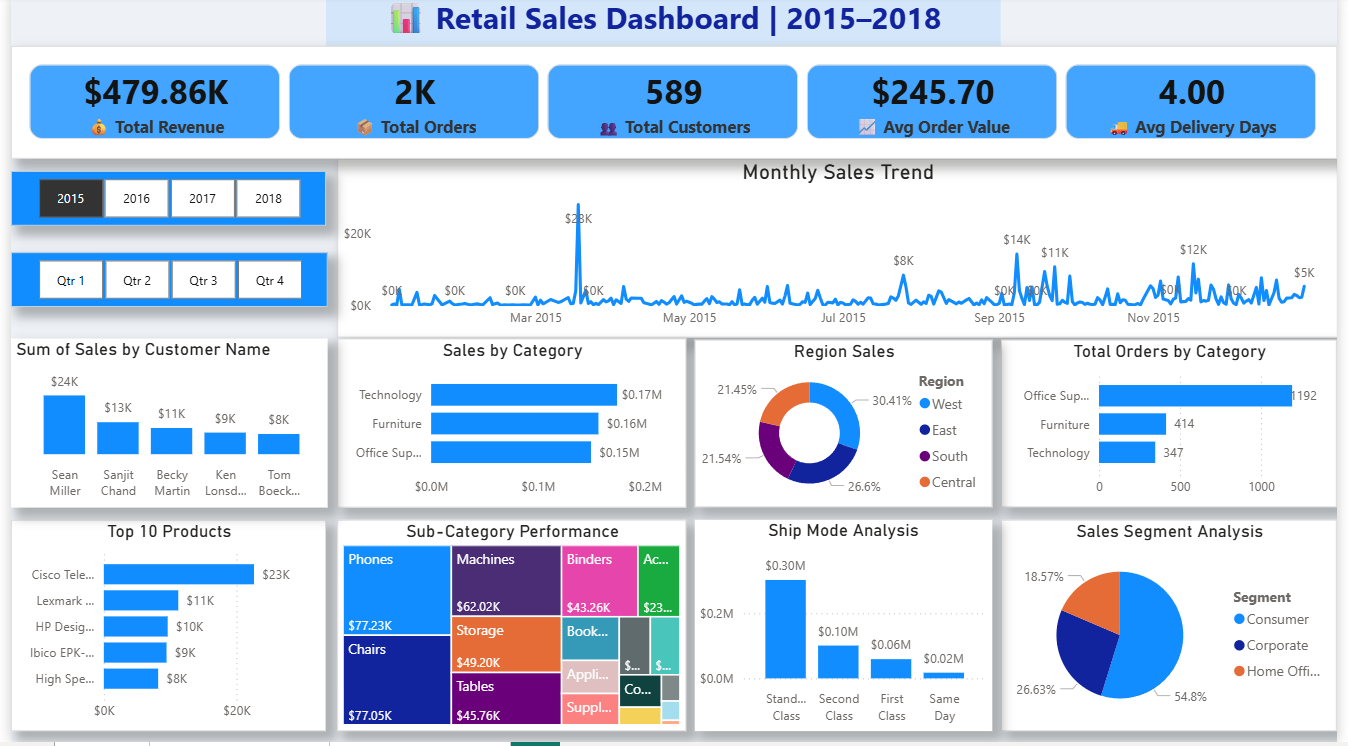

Layout of this report page (visuals, bound fields, positions):
{"tool":"powerbi","page":{"name":"Duplicate of Page 1","canvas":[1280,720],"ordinal":1},"visuals":[{"type":"cardVisual","fields":{"Data":["Sum(sales Data sales.Sales)"]},"box":[8.4,68.8,201.5,115.8],"z":0},{"type":"lineChart","title":"Monthly Sales Trend","fields":{"Y":["Sum(sales Data sales.Sales)"],"Category":["sales Data sales.Order Date.Variation.Date Hierarchy.Year"]},"box":[8.6,211.6,295.9,210.3],"z":1000},{"type":"cardVisual","fields":{"Data":["sales Data sales.Avg Order Value"]},"box":[690.9,61.1,176.1,106.4],"z":2000},{"type":"cardVisual","fields":{"Data":["sales Data sales.Total Customers"]},"box":[454.9,66,172.4,101.5],"z":3000},{"type":"clusteredBarChart","title":"Top 10 Products","fields":{"Category":["sales Data sales.Product Name"],"Y":["sales Data sales.total sales"]},"box":[8.6,436.6,295.9,254.3],"z":4000},{"type":"clusteredBarChart","fields":{"Category":["sales Data sales.Category"],"Y":["sales Data sales.Total Orders"]},"box":[961.9,211.3,300.5,209.9],"z":5000},{"type":"clusteredBarChart","fields":{"Category":["sales Data sales.Category"],"Y":["Sum(sales Data sales.Sales)"]},"box":[314.3,195.7,337.5,210.3],"z":6000},{"type":"treemap","title":"Sub-Category Performance","fields":{"Group":["sales Data sales.Sub-Category"],"Values":["sales Data sales.total sales"]},"box":[314.3,436.6,337.5,254.3],"z":7000},{"type":"donutChart","title":"Region Sales","fields":{"Y":["sales Data sales.total sales"],"Category":["sales Data sales.Region"]},"box":[661.6,195.7,270.2,210.3],"z":8000},{"type":"cardVisual","fields":{"Data":["sales Data sales.Total Orders"]},"box":[250.7,68.5,150.4,97.8],"z":9000},{"type":"pieChart","title":"Sales Segment Analysis","fields":{"Y":["sales Data sales.total sales"],"Category":["sales Data sales.Segment"]},"box":[680.6,436.4,256.6,275.8],"z":10000},{"type":"clusteredColumnChart","title":"Ship Mode Analysis","fields":{"Category":["sales Data sales.Ship Mode"],"Y":["sales Data sales.total sales"]},"box":[961.9,443.2,318.4,269],"z":11000},{"type":"listSlicer","fields":{"Values":["sales Data sales.Order Date.Variation.Date Hierarchy.Quarter"]},"box":[1121.3,50.1,96.6,150.4],"z":12000},{"type":"listSlicer","fields":{"Values":["sales Data sales.Order Date.Variation.Date Hierarchy.Year"]},"box":[996.6,46.5,85.6,149.2],"z":13000},{"type":"textbox","box":[0,0,1280.3,56.3],"z":14000}]}

Visuals, with their boxes in screenshot pixels (x1, y1, x2, y2), scaled from the page's 1280x720 canvas onto the 1348x746 screenshot:
cardVisual - Sum(sales Data sales.Sales): x1=9 y1=71 x2=221 y2=191
"Monthly Sales Trend" lineChart: x1=9 y1=219 x2=321 y2=437
cardVisual - sales Data sales.Avg Order Value: x1=728 y1=63 x2=913 y2=174
cardVisual - sales Data sales.Total Customers: x1=479 y1=68 x2=661 y2=174
"Top 10 Products" clusteredBarChart: x1=9 y1=452 x2=321 y2=716
clusteredBarChart - sales Data sales.Category x sales Data sales.Total Orders: x1=1013 y1=219 x2=1329 y2=436
clusteredBarChart - sales Data sales.Category x Sum(sales Data sales.Sales): x1=331 y1=203 x2=686 y2=421
"Sub-Category Performance" treemap: x1=331 y1=452 x2=686 y2=716
"Region Sales" donutChart: x1=697 y1=203 x2=981 y2=421
cardVisual - sales Data sales.Total Orders: x1=264 y1=71 x2=422 y2=172
"Sales Segment Analysis" pieChart: x1=717 y1=452 x2=987 y2=738
"Ship Mode Analysis" clusteredColumnChart: x1=1013 y1=459 x2=1347 y2=738
listSlicer - sales Data sales.Order Date.Variation.Date Hierarchy.Quarter: x1=1181 y1=52 x2=1283 y2=208
listSlicer - sales Data sales.Order Date.Variation.Date Hierarchy.Year: x1=1050 y1=48 x2=1140 y2=203
textbox: x1=0 y1=0 x2=1347 y2=58
